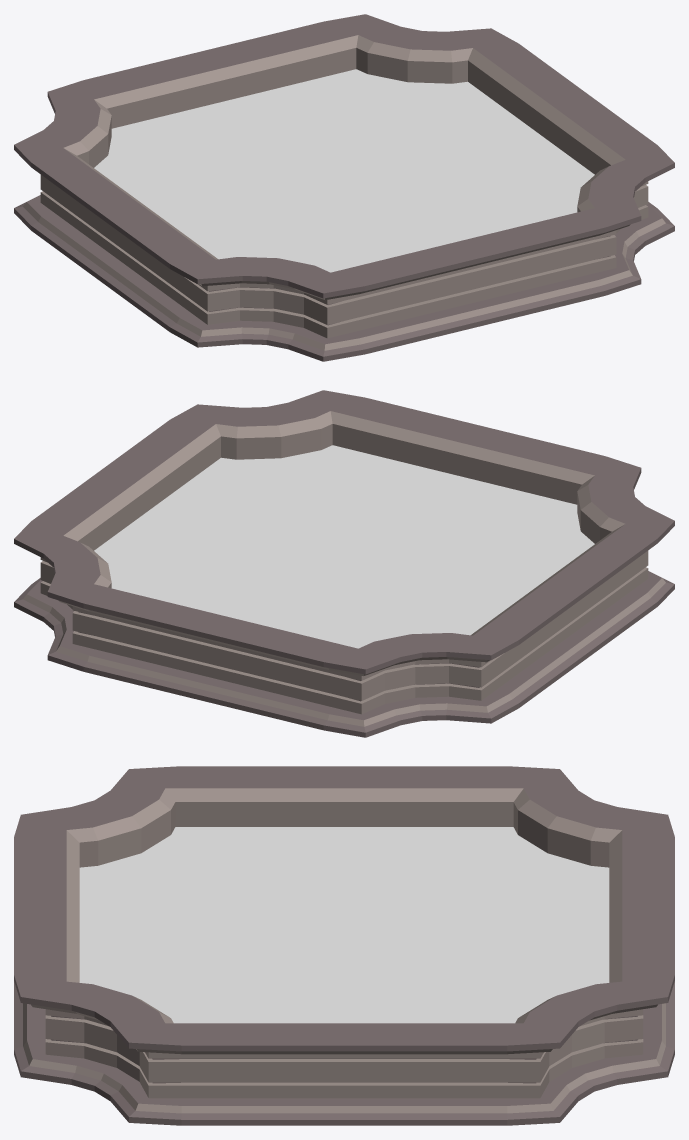
Rendered from fonte.fbx.
3 renders of one model, top to bottom at view 1: azimuth 30°, elevation 25°; view 2: azimuth 150°, elevation 25°; view 3: azimuth 270°, elevation 25°, orthographic. The views are drawn at different scales.
Visible parts, largest first — view 1: Agua; view 2: Agua; view 3: Agua.
Part boxes in pixels (left/top/right/bottom): Agua: left=14, top=14, right=674, bottom=361; Agua: left=14, top=390, right=674, bottom=737; Agua: left=14, top=766, right=674, bottom=1125.
Size of the model in its own units: 500 by 66.98 by 500.
